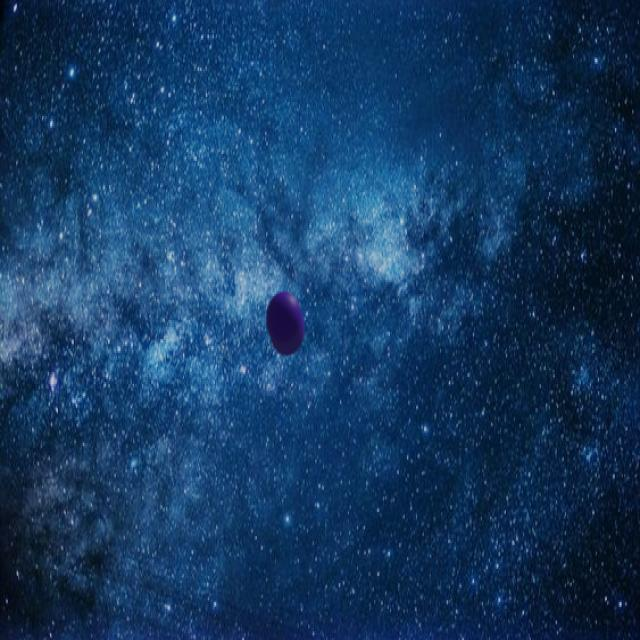large_debris: (265, 289, 308, 361)
